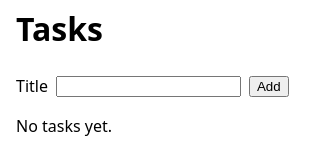
Test: TaskApp › adds a trimmed task, lists it open, and clears the input
Type "  Buy milk  " into the field labelled "Title" at (148, 86), box [56,76,241,97]
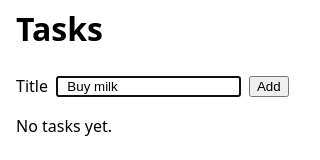
Click the button "Add" at (269, 86), box [249,76,289,97]
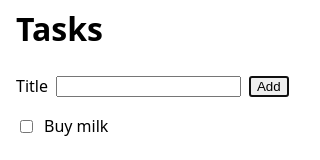
Check: the checkbox labelled "Buy milk" is not checked, box [20,120,33,133]
Check: the checkbox labelled "Buy milk" is enabled, box [20,120,33,133]
Check: the text "No tasks yet." is gone
